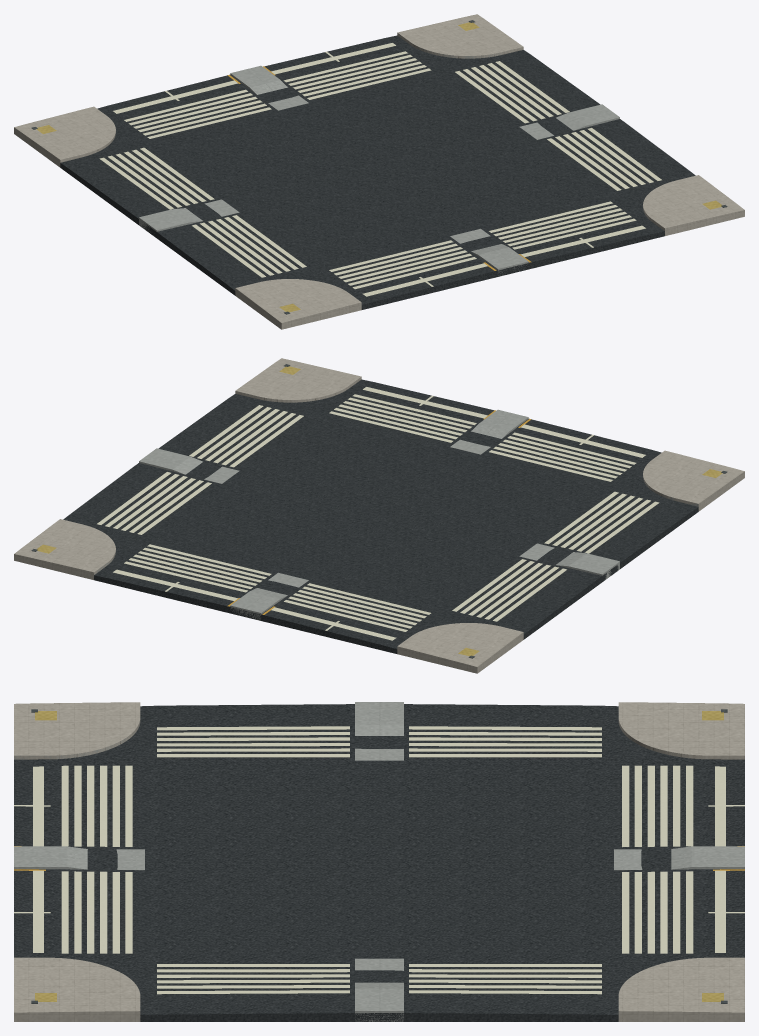
3 renders of one model, top to bottom at view 1: azimuth 30°, elevation 25°; view 2: azimuth 150°, elevation 25°; view 3: azimuth 270°, elevation 25°, orthographic. The views are drawn at different scales.
Visible parts, largest first — view 1: VIS_INTERSECTION_DRIVE_SURFACE, VIS_CORNER_PAVING_1, VIS_CORNER_PAVING_3, VIS_CORNER_PAVING_0, VIS_CORNER_PAVING_2, VIS_JUNCTION_MEDIAN_X_-1, VIS_JUNCTION_MEDIAN_X_1, VIS_JUNCTION_MEDIAN_Z_-1, VIS_JUNCTION_MEDIAN_Z_1, VIS_JUNCTION_STOPBAR_Z_-1_-1, VIS_JUNCTION_STOPBAR_Z_1_-1, VIS_JUNCTION_STOPBAR_Z_-1_1 (+1 smaller); view 2: VIS_INTERSECTION_DRIVE_SURFACE, VIS_CORNER_PAVING_0, VIS_CORNER_PAVING_2, VIS_CORNER_PAVING_1, VIS_CORNER_PAVING_3, VIS_JUNCTION_MEDIAN_Z_-1, VIS_JUNCTION_MEDIAN_X_-1, VIS_JUNCTION_MEDIAN_Z_1, VIS_JUNCTION_MEDIAN_X_1, VIS_JUNCTION_STOPBAR_Z_1_-1, VIS_JUNCTION_STOPBAR_Z_-1_-1, VIS_JUNCTION_STOPBAR_Z_1_1 (+1 smaller); view 3: VIS_INTERSECTION_DRIVE_SURFACE, VIS_CORNER_PAVING_2, VIS_CORNER_PAVING_3, VIS_CORNER_PAVING_0, VIS_CORNER_PAVING_1, VIS_JUNCTION_MEDIAN_X_1, VIS_JUNCTION_MEDIAN_Z_-1, VIS_JUNCTION_MEDIAN_Z_1, VIS_JUNCTION_MEDIAN_X_-1, VIS_JUNCTION_STOPBAR_Z_-1_1, VIS_JUNCTION_STOPBAR_Z_1_1, VIS_JUNCTION_STOPBAR_Z_-1_-1 (+49 smaller).
Boxes of the visible parts, left/top/right/bottom form: VIS_INTERSECTION_DRIVE_SURFACE: left=60, top=35, right=695, bottom=309; VIS_CORNER_PAVING_1: left=235, top=279, right=361, bottom=329; VIS_CORNER_PAVING_3: left=643, top=175, right=744, bottom=235; VIS_CORNER_PAVING_0: left=14, top=106, right=115, bottom=167; VIS_CORNER_PAVING_2: left=397, top=14, right=523, bottom=58; VIS_JUNCTION_MEDIAN_X_-1: left=139, top=199, right=239, bottom=232; VIS_JUNCTION_MEDIAN_X_1: left=519, top=104, right=619, bottom=139; VIS_JUNCTION_MEDIAN_Z_-1: left=230, top=65, right=308, bottom=110; VIS_JUNCTION_MEDIAN_Z_1: left=450, top=228, right=528, bottom=275; VIS_JUNCTION_STOPBAR_Z_-1_-1: left=113, top=80, right=237, bottom=113; VIS_JUNCTION_STOPBAR_Z_1_-1: left=362, top=263, right=487, bottom=296; VIS_JUNCTION_STOPBAR_Z_-1_1: left=271, top=43, right=395, bottom=74; VIS_INTERSECTION_DRIVE_SURFACE: left=63, top=379, right=698, bottom=653; VIS_CORNER_PAVING_0: left=397, top=623, right=523, bottom=673; VIS_CORNER_PAVING_2: left=14, top=519, right=115, bottom=579; VIS_CORNER_PAVING_1: left=643, top=450, right=744, bottom=511; VIS_CORNER_PAVING_3: left=235, top=358, right=361, bottom=402; VIS_JUNCTION_MEDIAN_Z_-1: left=230, top=572, right=308, bottom=620; VIS_JUNCTION_MEDIAN_X_-1: left=519, top=543, right=619, bottom=579; VIS_JUNCTION_MEDIAN_Z_1: left=450, top=409, right=528, bottom=454; VIS_JUNCTION_MEDIAN_X_1: left=139, top=448, right=239, bottom=483; VIS_JUNCTION_STOPBAR_Z_1_-1: left=521, top=424, right=645, bottom=457; VIS_JUNCTION_STOPBAR_Z_-1_-1: left=271, top=607, right=396, bottom=640; VIS_JUNCTION_STOPBAR_Z_1_1: left=363, top=387, right=487, bottom=418; VIS_INTERSECTION_DRIVE_SURFACE: left=14, top=704, right=744, bottom=1021; VIS_CORNER_PAVING_2: left=618, top=957, right=744, bottom=1021; VIS_CORNER_PAVING_3: left=14, top=957, right=140, bottom=1021; VIS_CORNER_PAVING_0: left=618, top=702, right=744, bottom=759; VIS_CORNER_PAVING_1: left=14, top=702, right=140, bottom=759; VIS_JUNCTION_MEDIAN_X_1: left=355, top=958, right=403, bottom=1021; VIS_JUNCTION_MEDIAN_Z_-1: left=614, top=846, right=744, bottom=870; VIS_JUNCTION_MEDIAN_Z_1: left=14, top=846, right=144, bottom=870; VIS_JUNCTION_MEDIAN_X_-1: left=355, top=702, right=403, bottom=760; VIS_JUNCTION_STOPBAR_Z_-1_1: left=715, top=870, right=725, bottom=952; VIS_JUNCTION_STOPBAR_Z_1_1: left=33, top=870, right=43, bottom=952; VIS_JUNCTION_STOPBAR_Z_-1_-1: left=715, top=766, right=725, bottom=846.
Size of the model in its own units: 24 by 0.403 by 24.
Materials: 7 (7 with a texture image).
